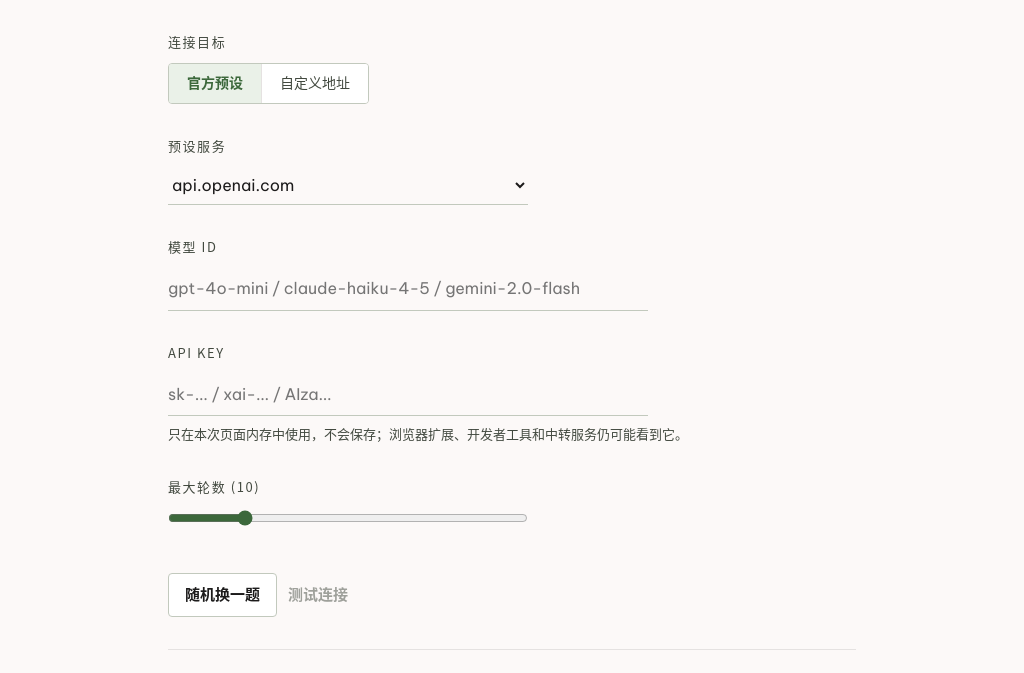
AI 试炼场页面 · 试炼交互（取消与轮数） › 输入框具有中文可访问名称「你的回应」
(page scrolled)
Type "gpt-4o-mini" into the field labelled "模型 ID" at (408,289), box [168,268,648,311]
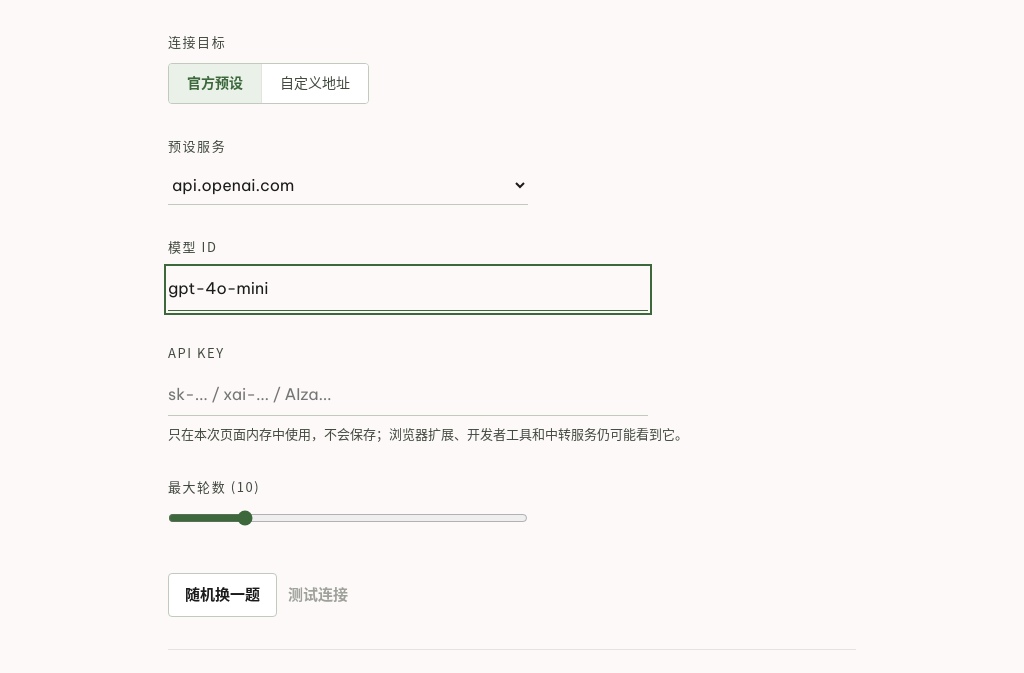
Type "sk-page-sentinel-must-never-persist" into the password field labelled "API Key" at (408,395), box [168,374,648,416]
(page scrolled)
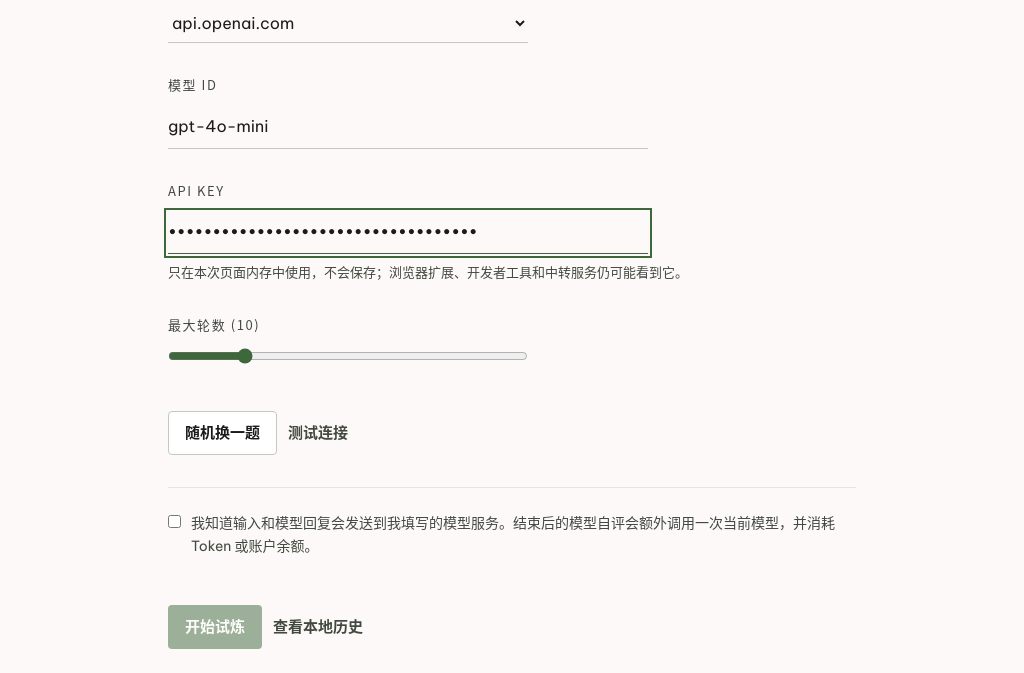
Click the checkbox labelled "我知道输入和模型回复会发送到我填写的模型服务。结束后的模型自评会额外调用一次当前模型，并消耗 Token 或账户余额。" at (174,522), box [168,515,181,528]
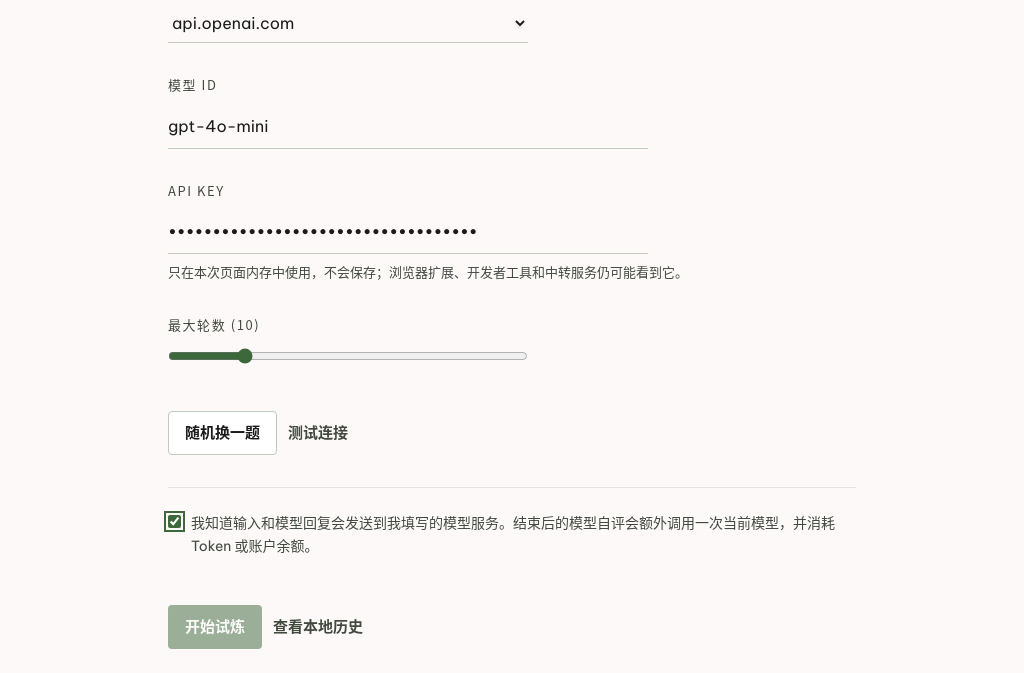
Click the button "随机换一题" at (222,433), box [168,411,277,455]
(page scrolled)
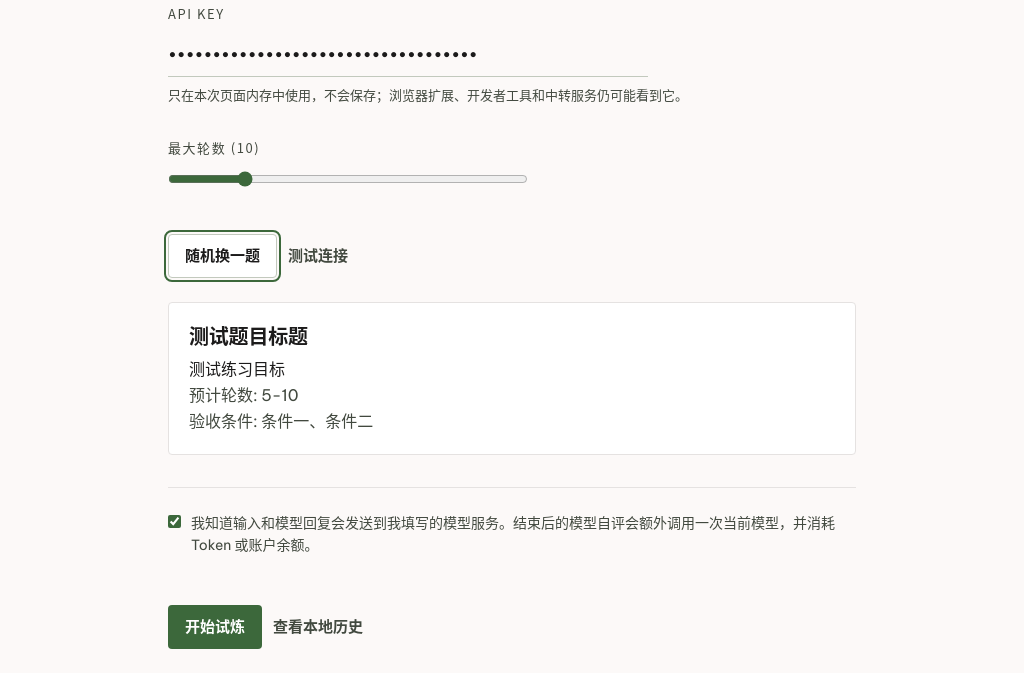
Click the button "开始试炼" at (215,627), box [168,605,262,649]
(page scrolled)
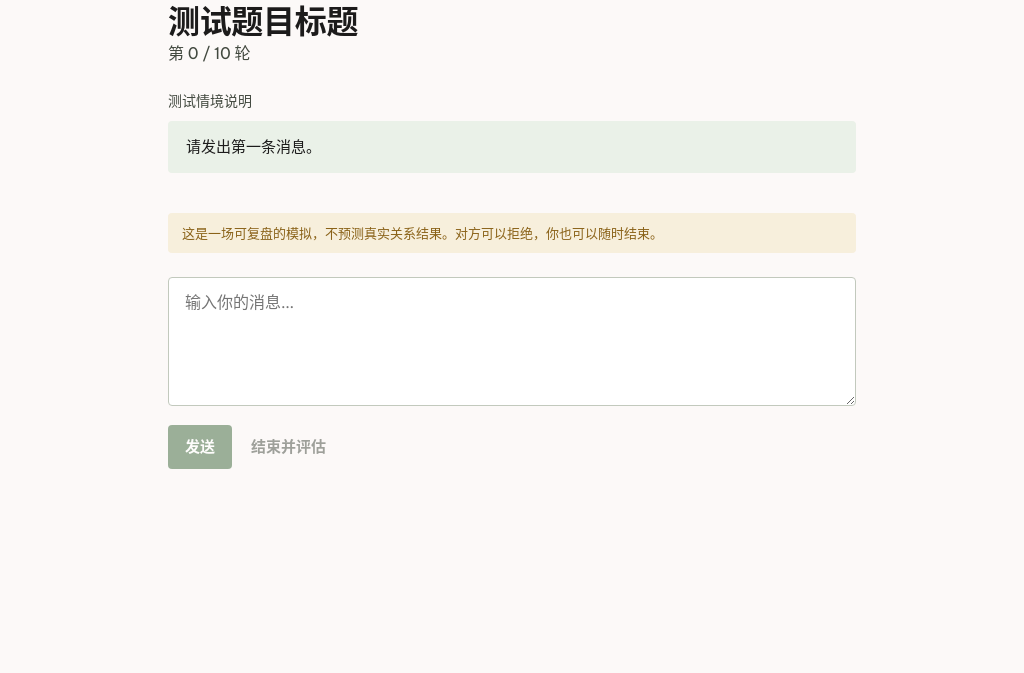
Expected: the text box named "你的回应" is shown, [168,277,856,406]
